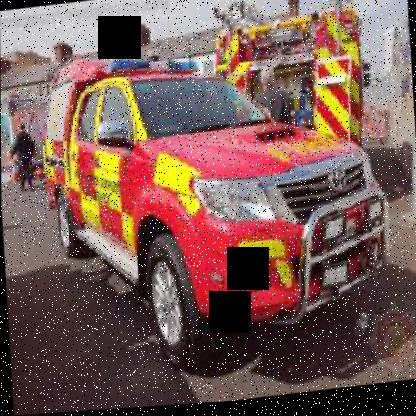emergency: (31, 24, 399, 389), (208, 0, 375, 199)
